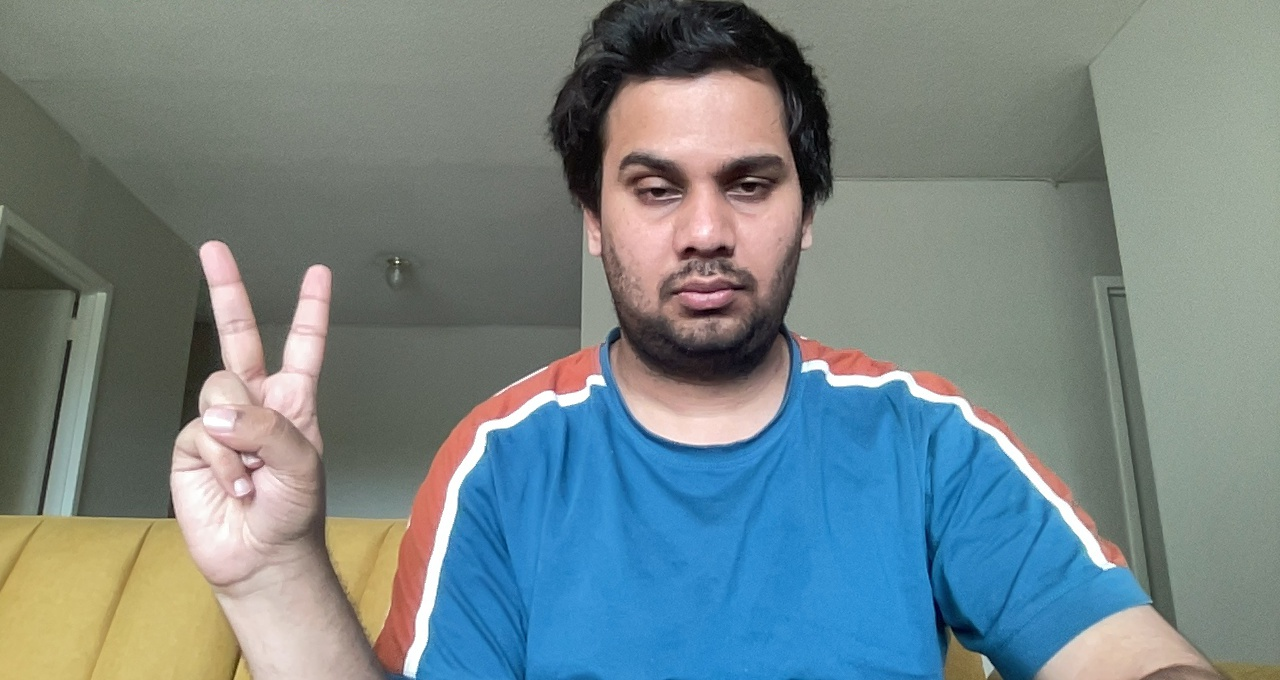peace sign: (160, 229, 346, 582)
